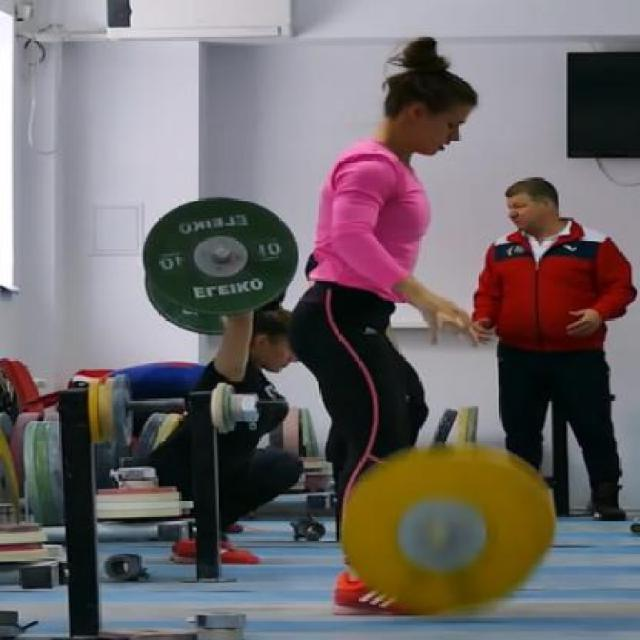Barbell: (212, 240, 234, 262)
